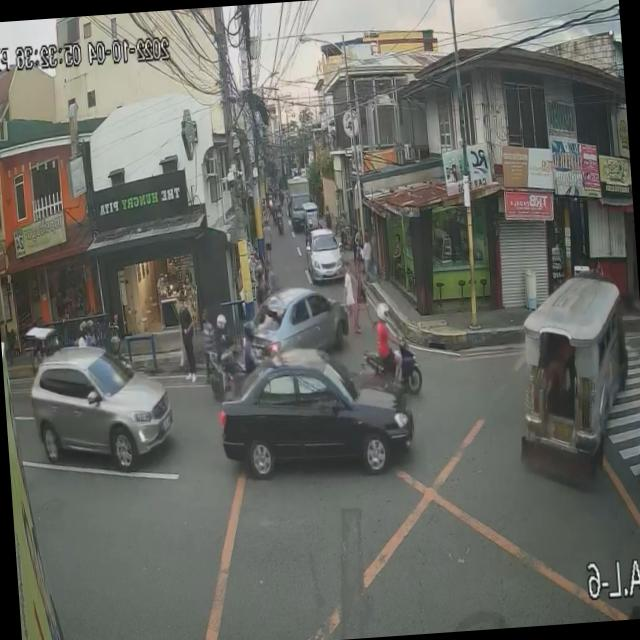full: (376, 300, 390, 324)
